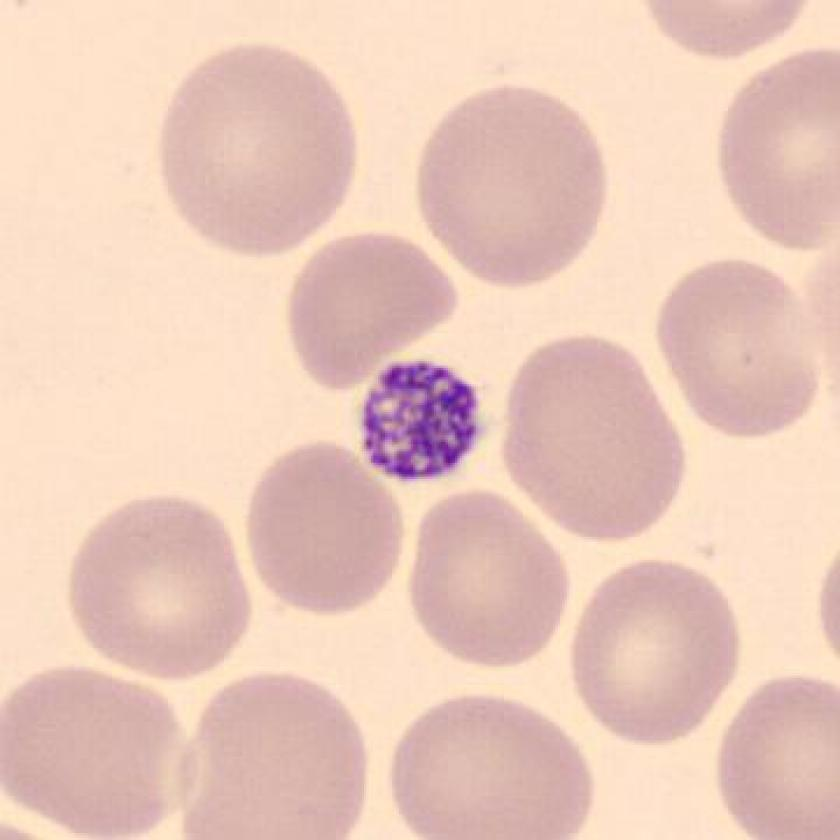platelets: (349, 344, 496, 496)
